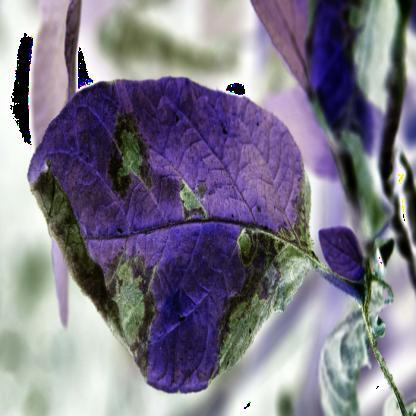Potato leaf: (25, 74, 316, 396)
